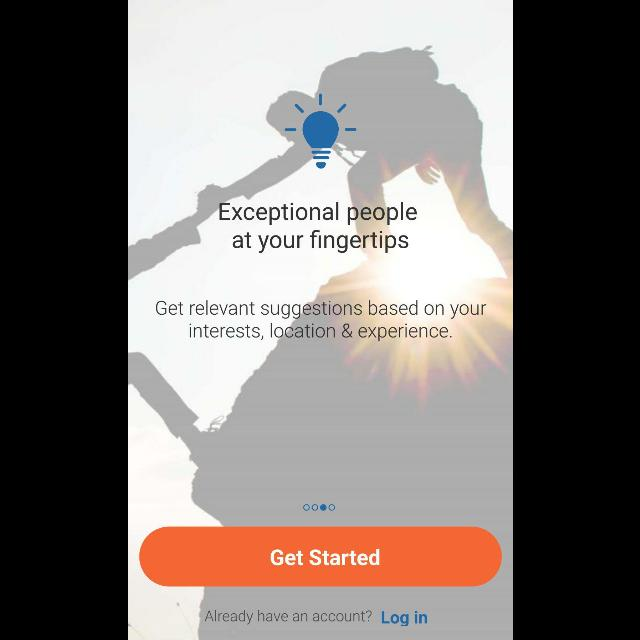backgroundimage: (128, 1, 512, 640)
image: (282, 94, 356, 170)
pageindicator: (302, 504, 334, 511)
text: (156, 300, 487, 342), (219, 202, 417, 254), (203, 610, 371, 624), (381, 610, 427, 626)
textbutton: (138, 527, 502, 587)
